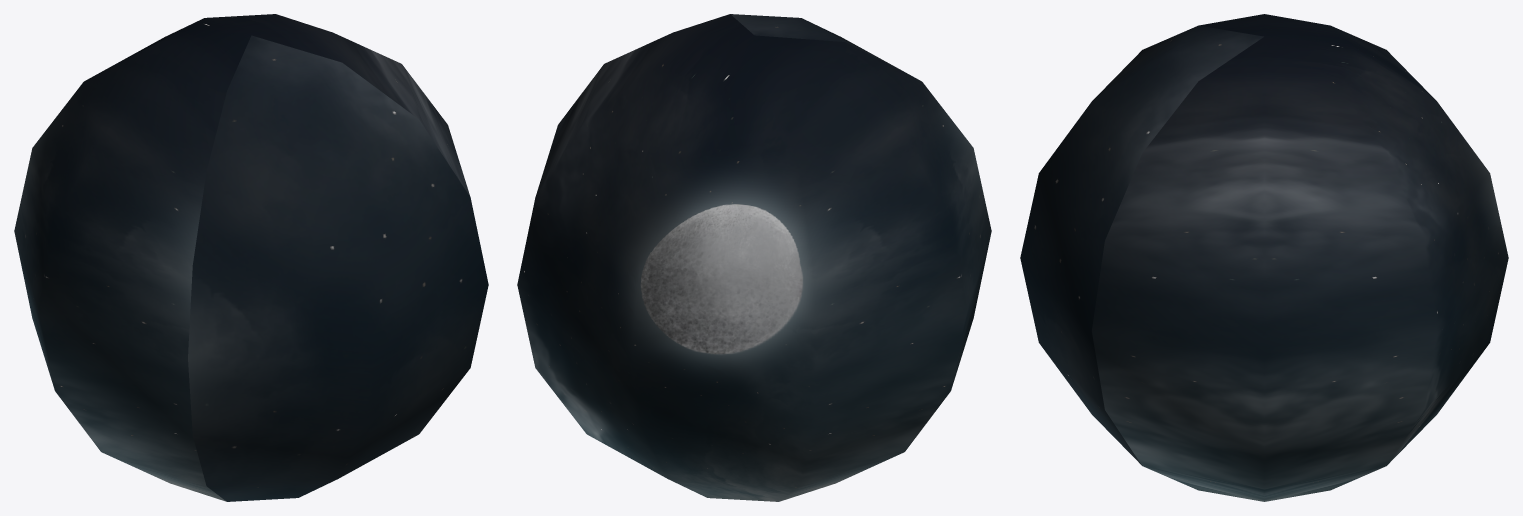
Rendered from Halloweenblend.fbx.
The picture shows the model from 3 angles, left to right: view 1: azimuth 30°, elevation 25°; view 2: azimuth 150°, elevation 25°; view 3: azimuth 270°, elevation 25°; orthographic projection.
Parts seen in each view (by area): view 1: Sphere; view 2: Sphere; view 3: Sphere.
Part boxes in pixels (left/top/right/bottom): Sphere: left=14, top=14, right=488, bottom=501; Sphere: left=517, top=14, right=991, bottom=501; Sphere: left=1020, top=14, right=1508, bottom=501.
Size of the model in its own units: 6652 by 6652 by 6652.
